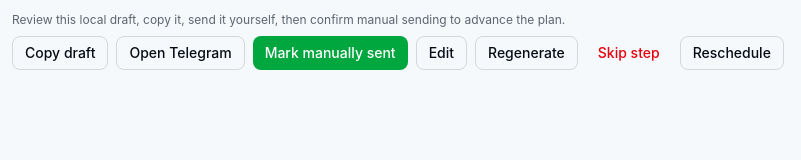
Test: StepReviewActions › records opening Telegram without marking the draft sent
Click the button "Open Telegram": (180, 53) [116,36,245,70]
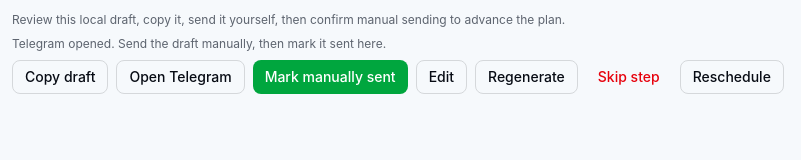
Result: the text "Telegram opened. Send the draft manually, then mark it sent here." is shown at [12,36,386,51]
